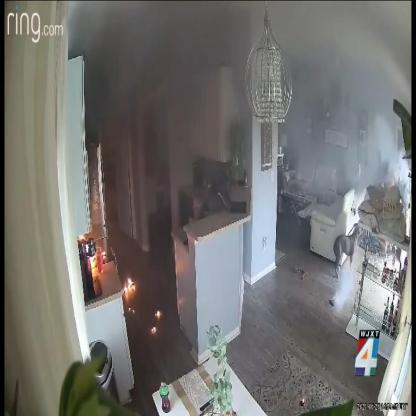fire: (123, 273, 137, 298), (155, 310, 162, 319), (151, 326, 157, 333)
